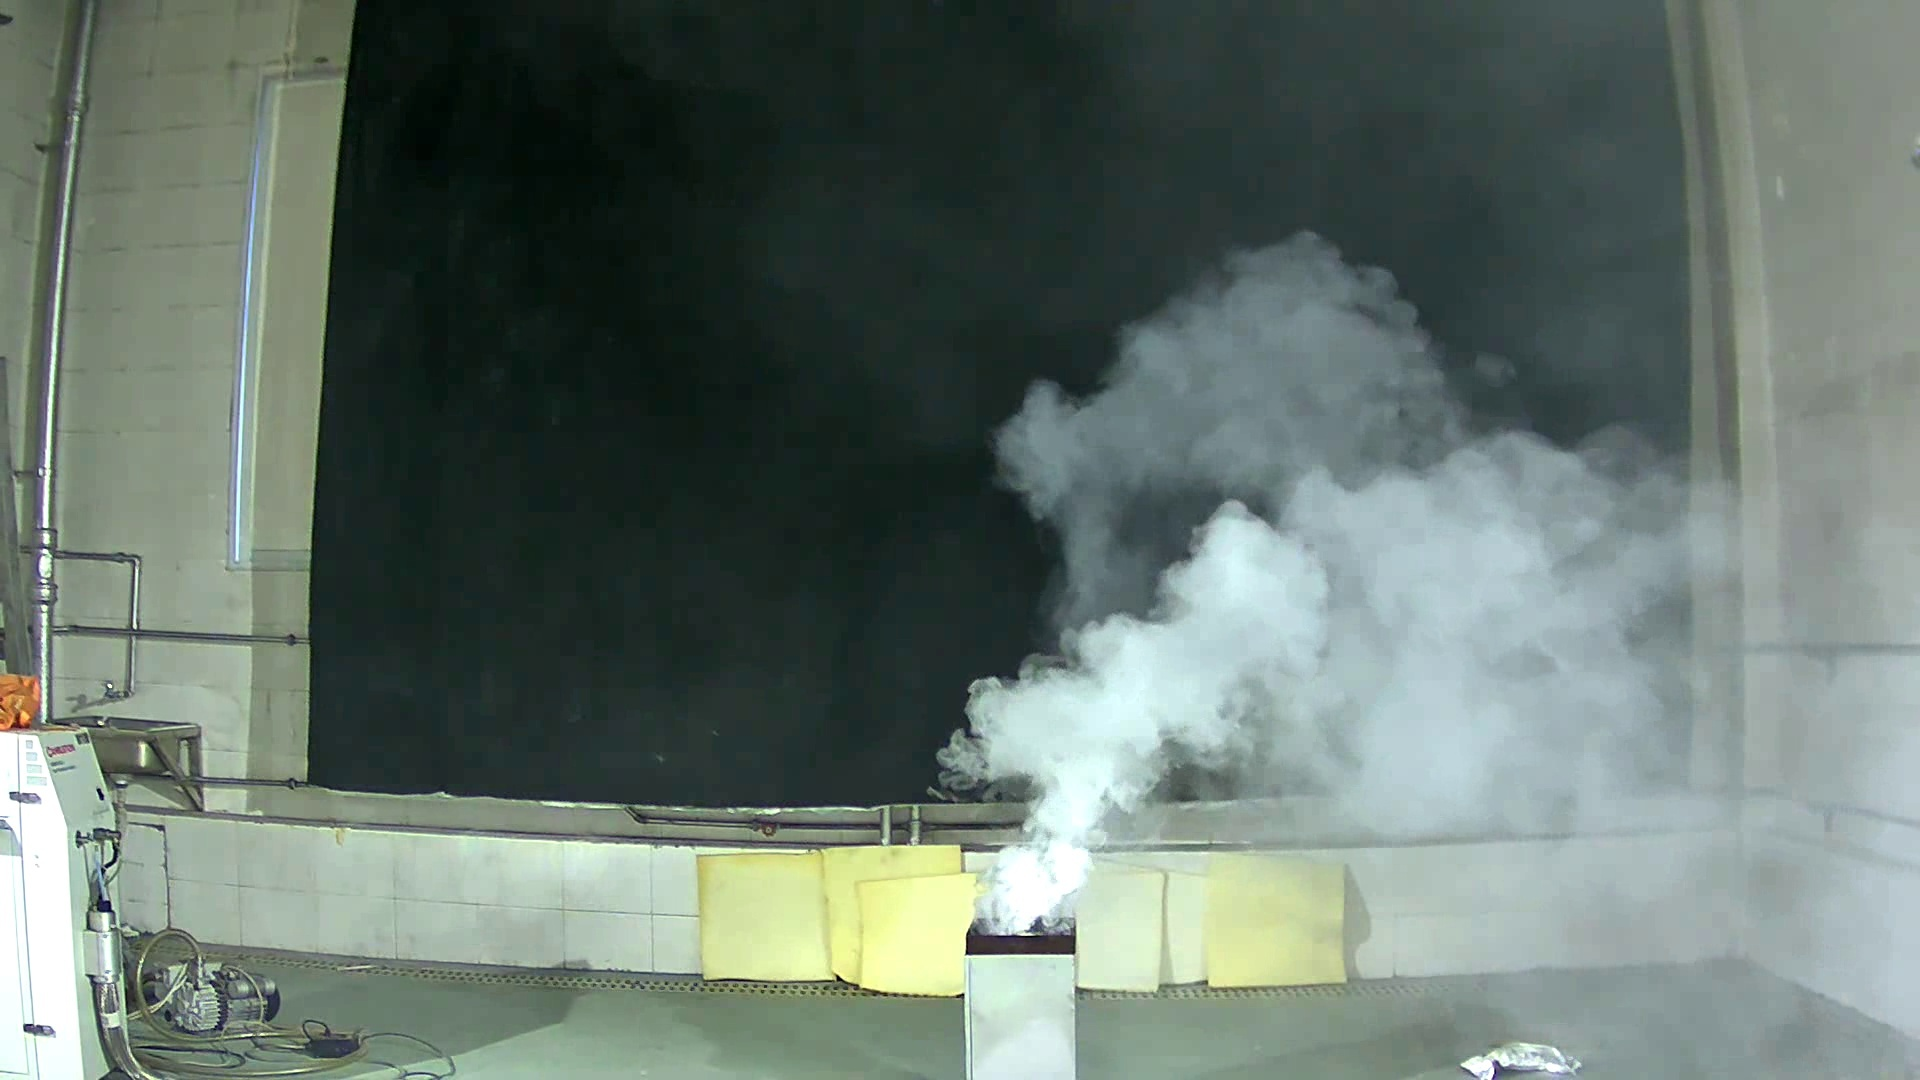smoke: (928, 220, 1638, 934)
